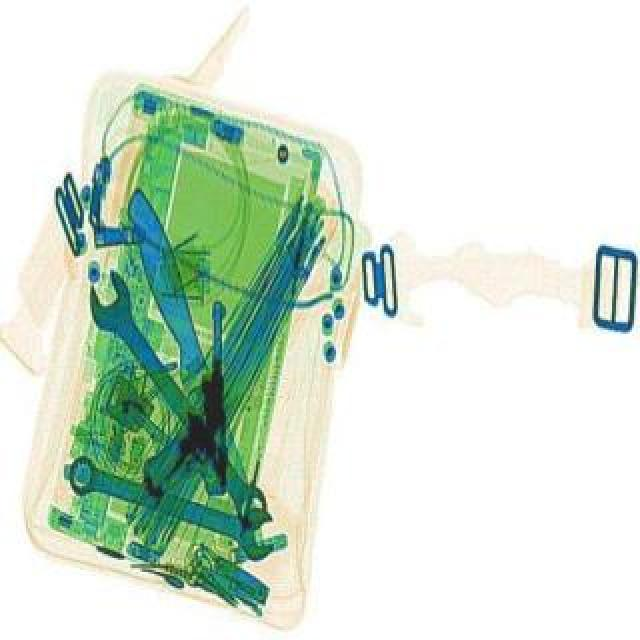gun: (132, 294, 228, 494)
knife: (118, 184, 252, 492)
scissors: (72, 264, 284, 540), (60, 442, 284, 562)
